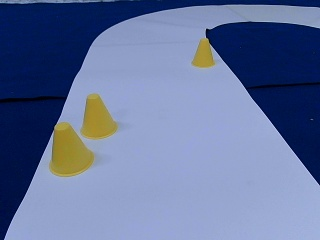cone: (50, 123, 94, 174), (80, 95, 118, 137), (192, 39, 215, 67)
